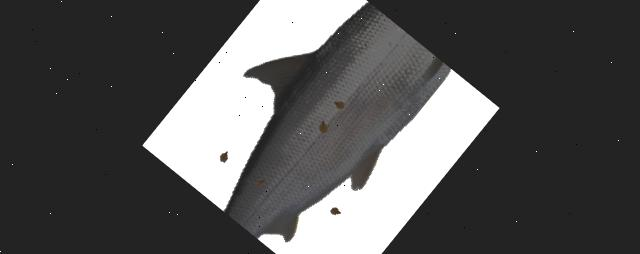Parasitic Disease: (224, 3, 450, 240), (224, 3, 450, 239)
